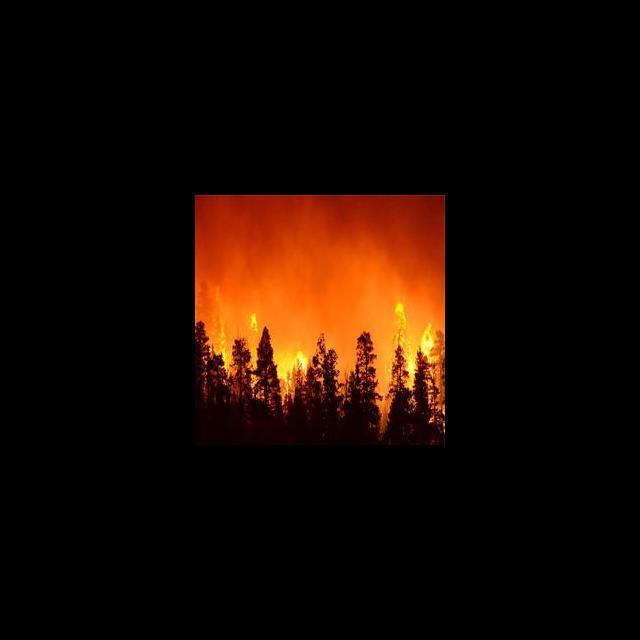Fire: (406, 319, 437, 376), (209, 317, 232, 370), (278, 346, 310, 382), (392, 296, 408, 352), (246, 310, 258, 332)
